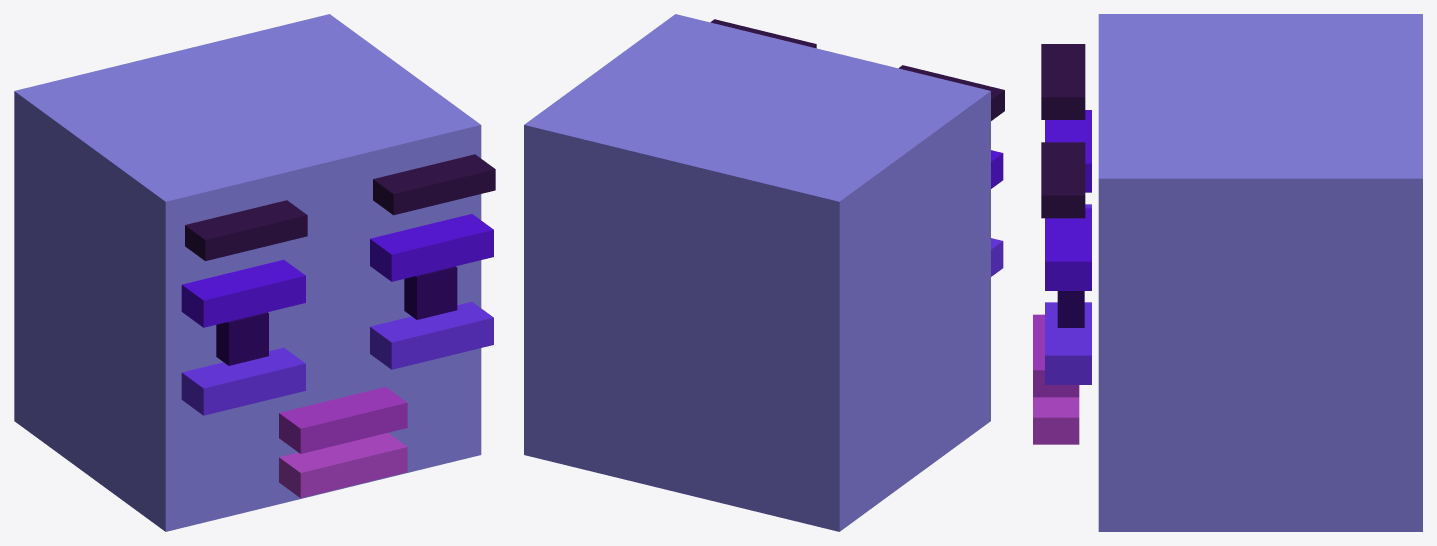
3 views of the same model, side by side, from view 1: azimuth 30°, elevation 25°; view 2: azimuth 150°, elevation 25°; view 3: azimuth 270°, elevation 25° (orthographic). The views are drawn at different scales.
Visible parts, largest first — view 1: Cube.004; view 2: Cube.004; view 3: Cube.004.
Part boxes in pixels (left/top/right/bottom): Cube.004: left=14, top=14, right=495, bottom=531; Cube.004: left=524, top=14, right=1004, bottom=531; Cube.004: left=1033, top=14, right=1422, bottom=531.
Bounding box in the file's own units: 1 × 1 × 1.
